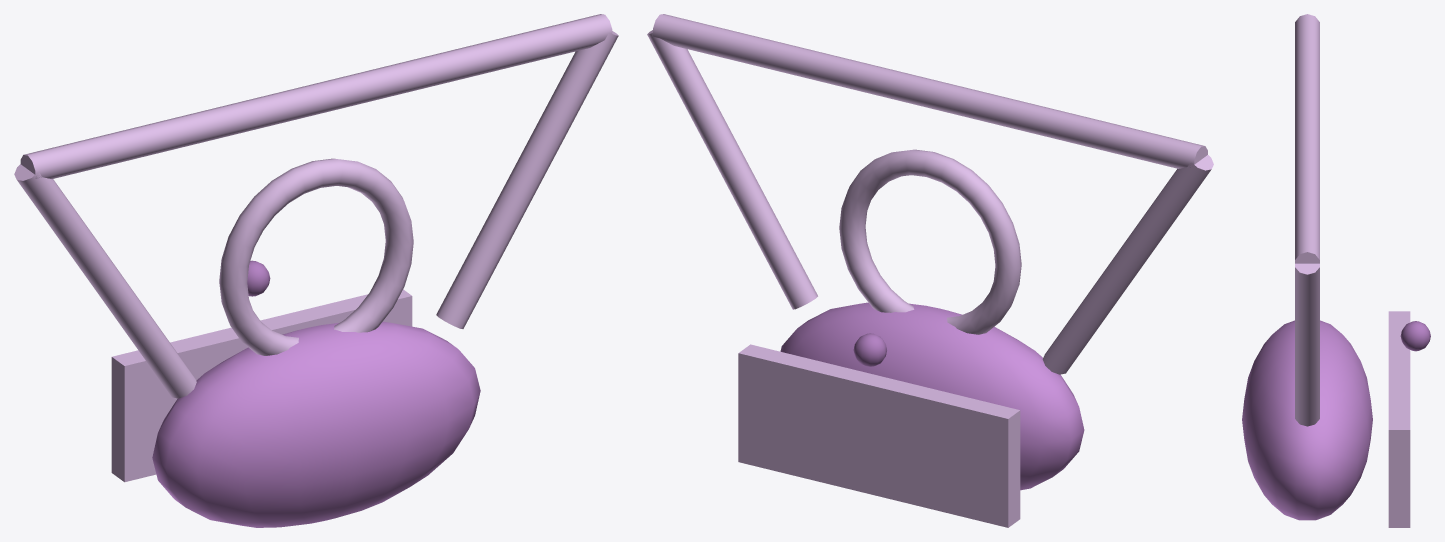
The model's file is VM-DAM-SH40596771.glb.
3 renders of one model, left to right at view 1: azimuth 30°, elevation 25°; view 2: azimuth 150°, elevation 25°; view 3: azimuth 270°, elevation 25°, orthographic. The views are drawn at different scales.
Parts seen in each view (by area): view 1: Bolso Tote Gran Capacidad Estampado; view 2: Bolso Tote Gran Capacidad Estampado; view 3: Bolso Tote Gran Capacidad Estampado.
Part boxes in pixels (box(x1,y1,x2,y2)): Bolso Tote Gran Capacidad Estampado: box(14, 14, 618, 527); Bolso Tote Gran Capacidad Estampado: box(647, 14, 1213, 527); Bolso Tote Gran Capacidad Estampado: box(1242, 14, 1430, 527).
Bounding box in the file's own units: 0.5186 × 0.3564 × 0.1675.
